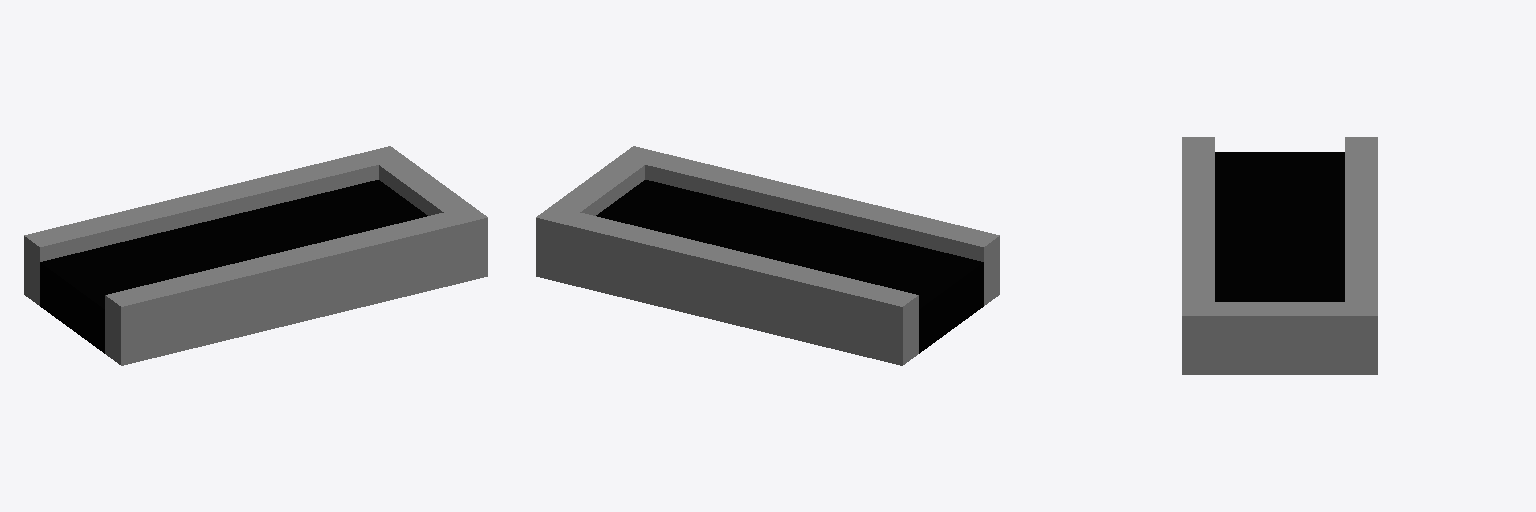
The model's file is road_stub.obj.
3 renders of one model, left to right at view 1: azimuth 30°, elevation 25°; view 2: azimuth 150°, elevation 25°; view 3: azimuth 270°, elevation 25°, orthographic.
Parts seen in each view (by area): view 1: road_stub_Cube.005; view 2: road_stub_Cube.005; view 3: road_stub_Cube.005.
Part boxes in pixels (bbox=[...]): road_stub_Cube.005: bbox=[24, 146, 487, 365]; road_stub_Cube.005: bbox=[536, 146, 999, 365]; road_stub_Cube.005: bbox=[1182, 137, 1377, 374].
Size of the model in its own units: 0.013 by 0.002 by 0.006.